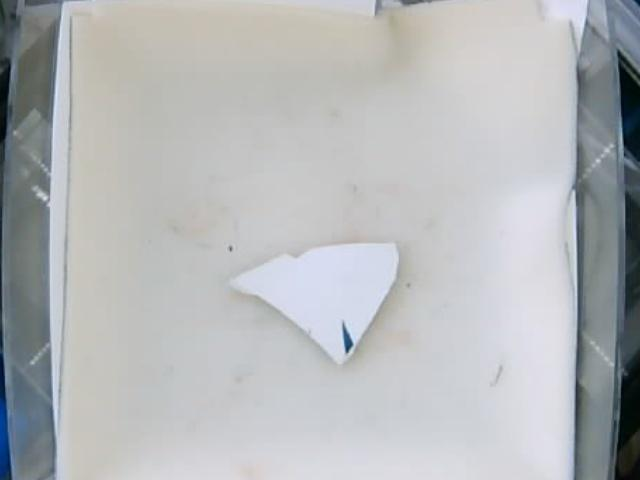China: (230, 240, 400, 360)
